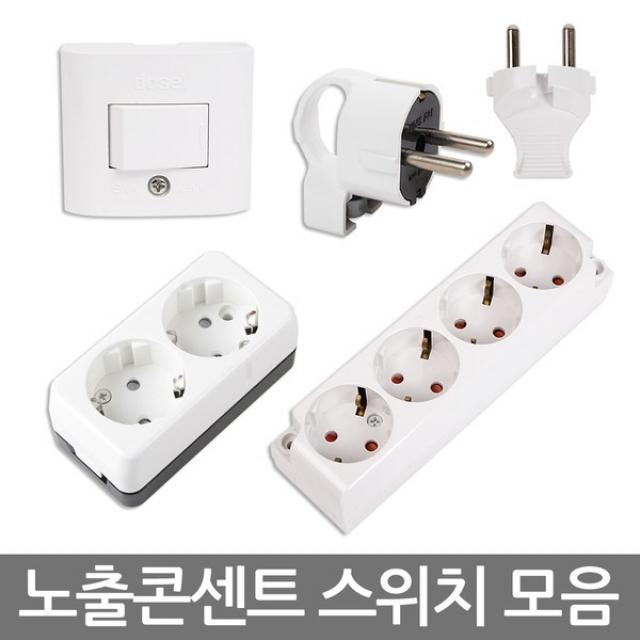typeb: (16, 240, 330, 499)
